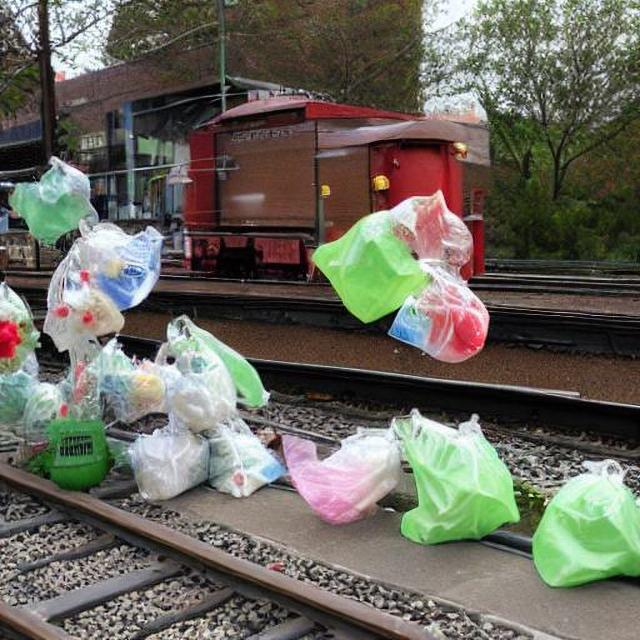plastic bag: (24, 316, 278, 496), (312, 197, 490, 365), (393, 411, 518, 545), (42, 225, 166, 345), (527, 464, 638, 592), (279, 413, 394, 521), (19, 163, 103, 236), (3, 280, 38, 418)
